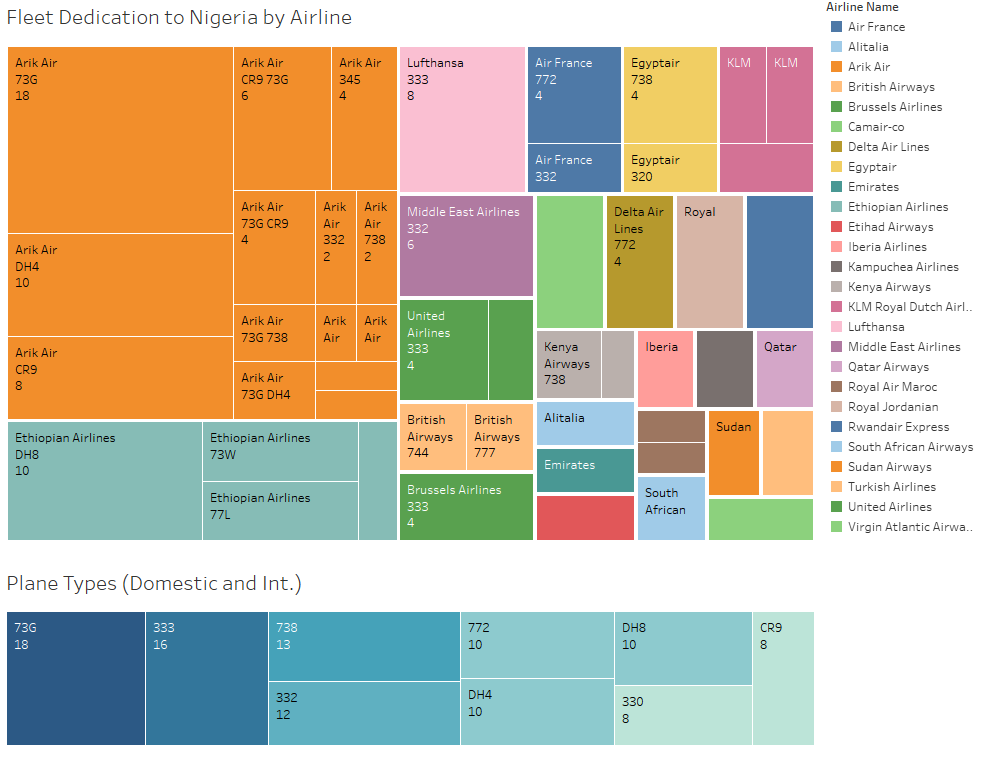

This screenshot's page, from the dashboard's own definition file:
{"tool":"tableau","page":{"name":"Both","canvas":[1000,800],"ordinal":0},"visuals":[{"type":"worksheet","title":"Sheet 10","mark":"Automatic","box":[8,8,824,566]},{"type":"legend","title":"Sheet 10","param":"[federated.0oznep40q54we21e4tsrb1bp7rz1].[none:Airline_Name:nk]","box":[832,8,160,546]},{"type":"worksheet","title":"Sheet 11","mark":"Automatic","box":[8,574,824,218]}]}

Visuals, with their boxes on the page's 1000x800 design canvas (x1, y1, x2, y2). These are canvas units, not pixel positions in the 987x762 screenshot, which may show the page scaled, cropped or inside an application window:
"Sheet 10" worksheet: 8 8 832 574
"Sheet 10" legend: 832 8 992 554
"Sheet 11" worksheet: 8 574 832 792
